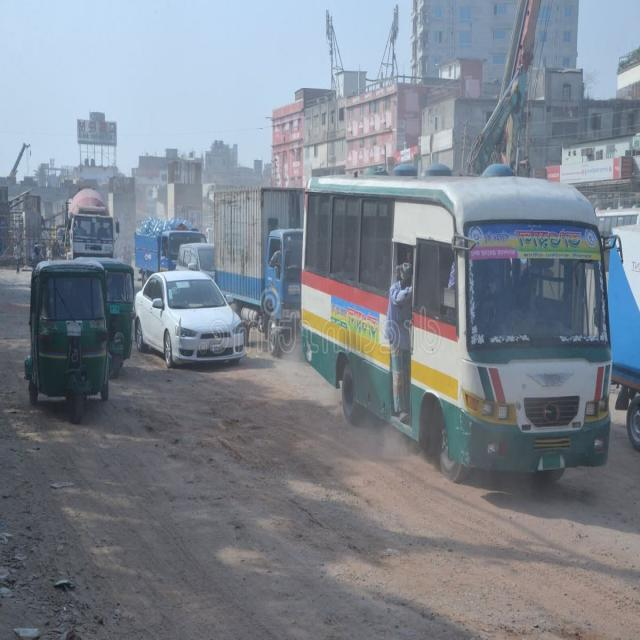Bus: (282, 156, 619, 484)
CNG: (24, 254, 113, 428)
Car: (136, 269, 247, 372)
Pick-up-van: (205, 180, 309, 353)
